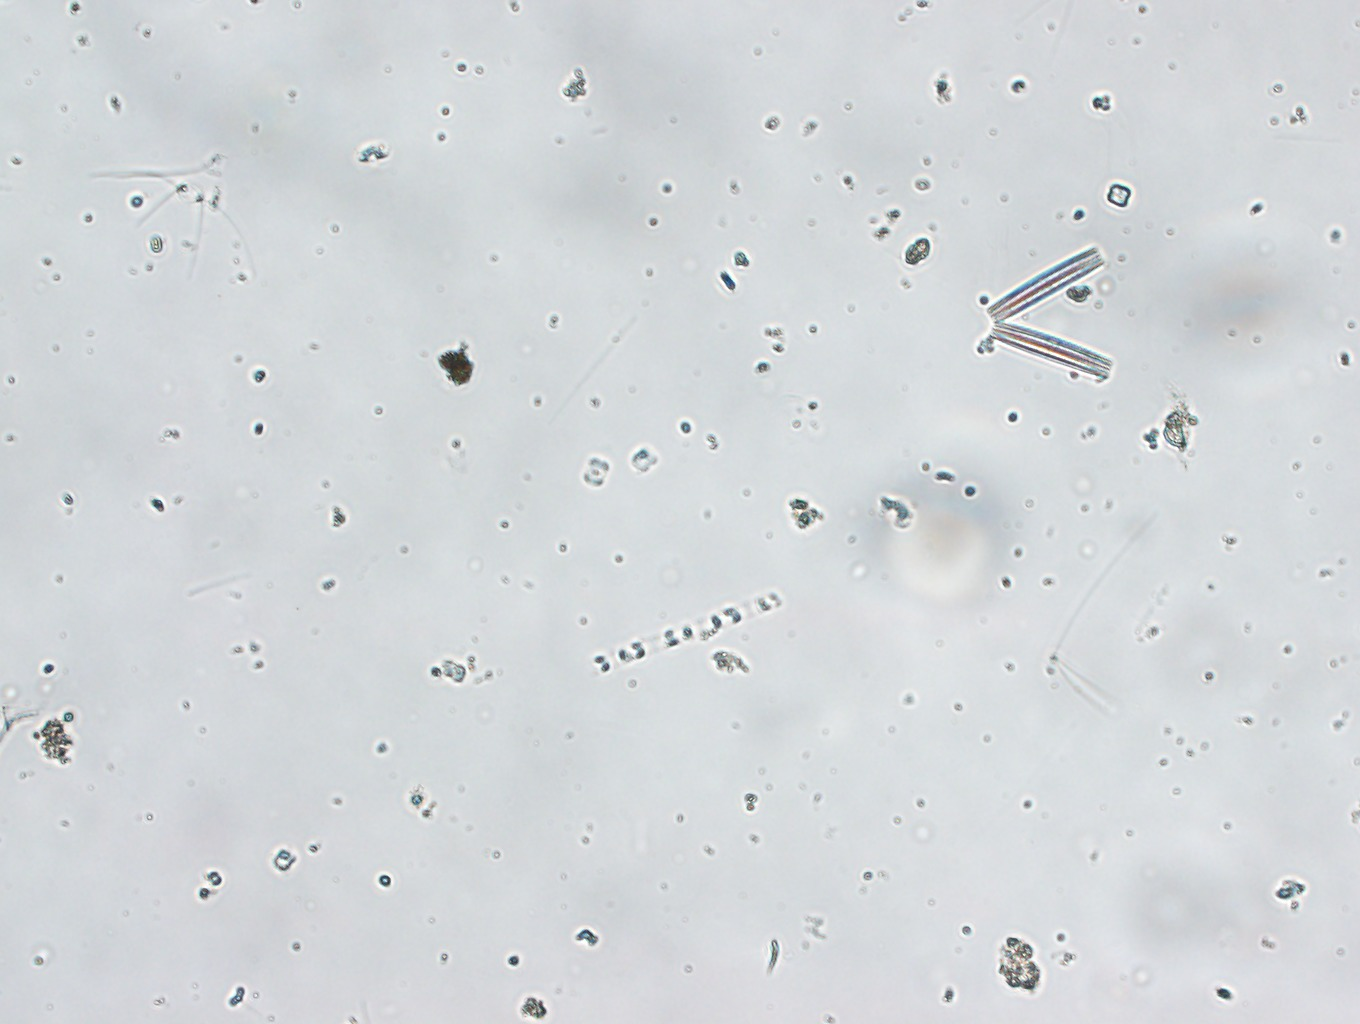skeletonema: (582, 575, 808, 686)
thalassionema nitzschioides: (973, 244, 1120, 387)
